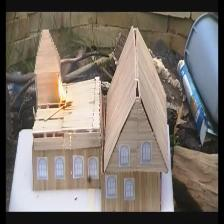fire: (57, 75, 65, 107)
